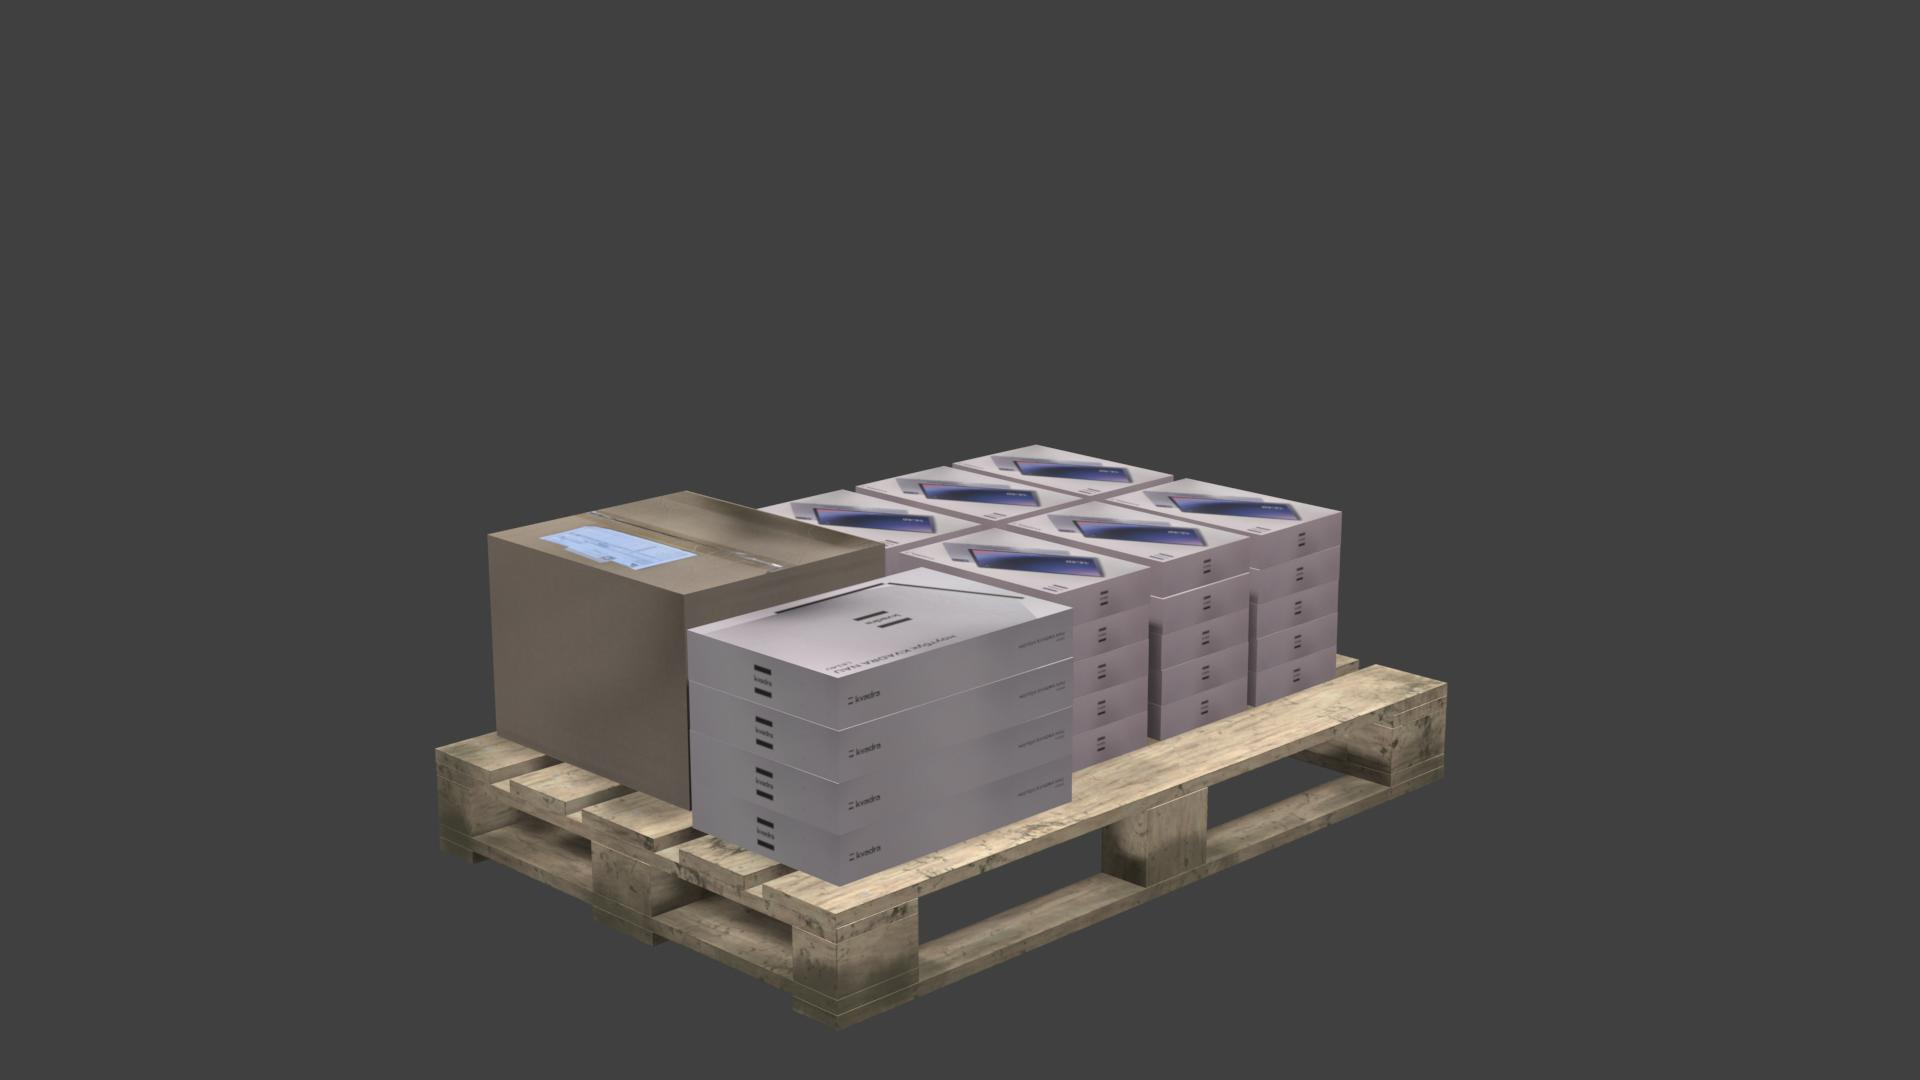group_box_left: (487, 535, 886, 808)
group_box_top: (491, 489, 879, 594)
laptop_left: (693, 755, 1073, 886), (693, 706, 1072, 835), (693, 659, 1074, 783), (690, 609, 1073, 730)
laptop_top: (689, 566, 1073, 680)
palet: (434, 654, 1449, 1034)
tablet_left: (1149, 676, 1248, 742), (1149, 643, 1247, 706), (1150, 574, 1249, 635), (1150, 609, 1248, 670), (1151, 539, 1250, 598), (1250, 511, 1341, 570), (1249, 647, 1336, 708), (1250, 614, 1337, 673), (1056, 570, 1149, 625), (1251, 547, 1339, 605), (1250, 581, 1338, 639), (1073, 711, 1148, 774), (1072, 639, 1148, 700), (1073, 676, 1147, 736), (1073, 607, 1147, 661)
tablet_top: (901, 528, 1149, 595), (1007, 501, 1250, 563), (757, 489, 978, 550), (1111, 478, 1339, 535), (860, 466, 1080, 522), (956, 444, 1172, 494)
